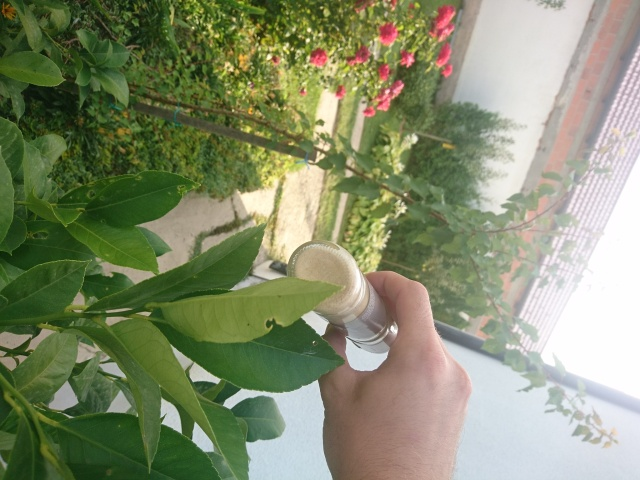Kotanyi Garlic Granules 70g: (283, 237, 405, 356)
